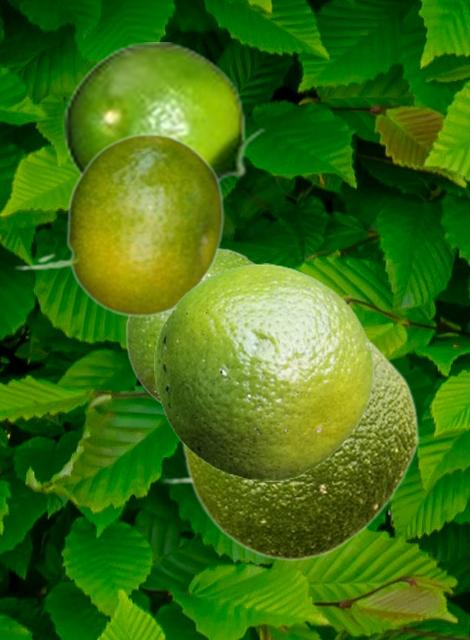calamansi: (181, 339, 418, 561), (154, 263, 372, 480), (14, 132, 223, 316), (62, 42, 266, 186), (125, 247, 255, 404)
